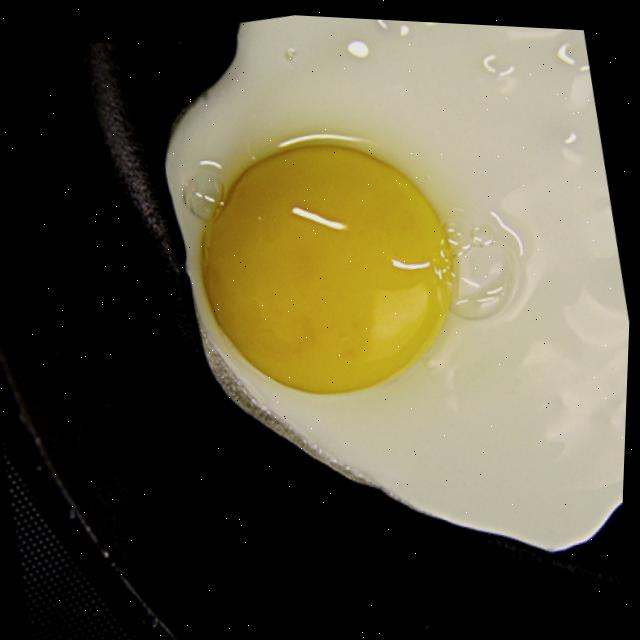鸡蛋料理: (117, 6, 640, 632)
